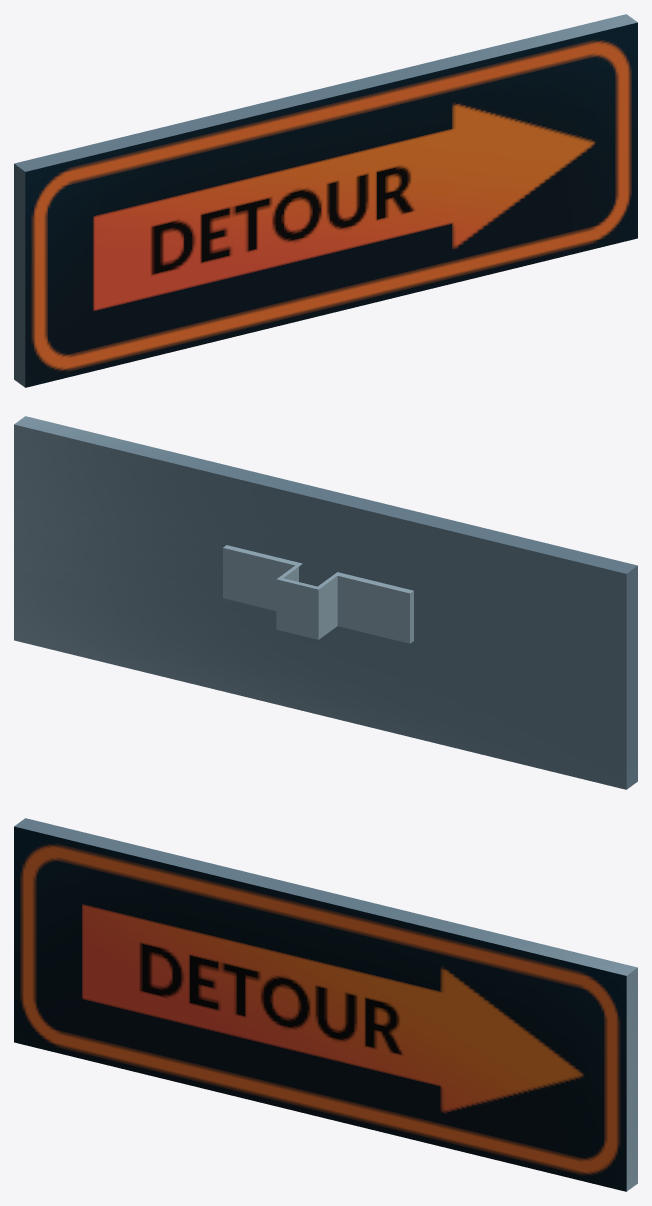
File: Sign50.fbx
3 views of the same model, one above another, from view 1: azimuth 30°, elevation 25°; view 2: azimuth 150°, elevation 25°; view 3: azimuth 330°, elevation 25° (orthographic).
Parts seen in each view (by area): view 1: Sign50; view 2: Sign50; view 3: Sign50.
Boxes of the visible parts, left/top/right/bottom form: Sign50: left=14, top=14, right=637, bottom=387; Sign50: left=14, top=416, right=637, bottom=789; Sign50: left=14, top=818, right=637, bottom=1191.
Bounding box in the file's own units: 1.54 × 0.1489 × 0.5195.
